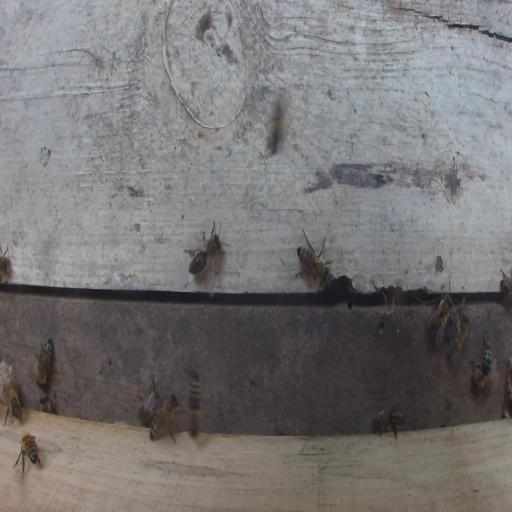Insects: (183, 216, 231, 300), (295, 224, 334, 292), (425, 278, 457, 350), (149, 392, 181, 444), (135, 372, 164, 428), (467, 331, 493, 393), (9, 430, 44, 476), (371, 400, 408, 440), (445, 311, 470, 365), (2, 377, 26, 427), (187, 369, 203, 439), (35, 335, 54, 389), (35, 394, 58, 414)
